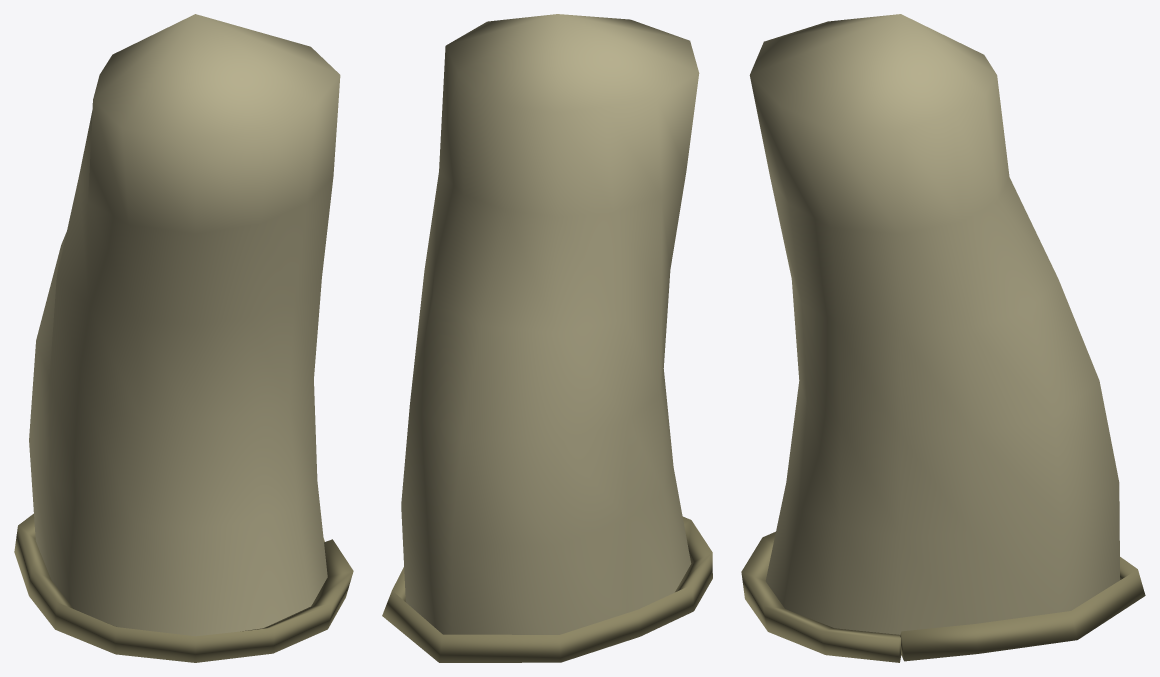
File: tin_armor_boot.R.glb
The picture shows the model from 3 angles, left to right: view 1: azimuth 30°, elevation 25°; view 2: azimuth 150°, elevation 25°; view 3: azimuth 270°, elevation 25°; orthographic projection. The views are drawn at different scales.
Parts seen in each view (by area): view 1: tin_armor_boot.R; view 2: tin_armor_boot.R; view 3: tin_armor_boot.R.
Part boxes in pixels (x1,y1,x2,y2): tin_armor_boot.R: [14, 14, 353, 662]; tin_armor_boot.R: [382, 14, 712, 662]; tin_armor_boot.R: [741, 14, 1145, 662].
Bounding box in the file's own units: 0.147 × 0.2958 × 0.1849.
